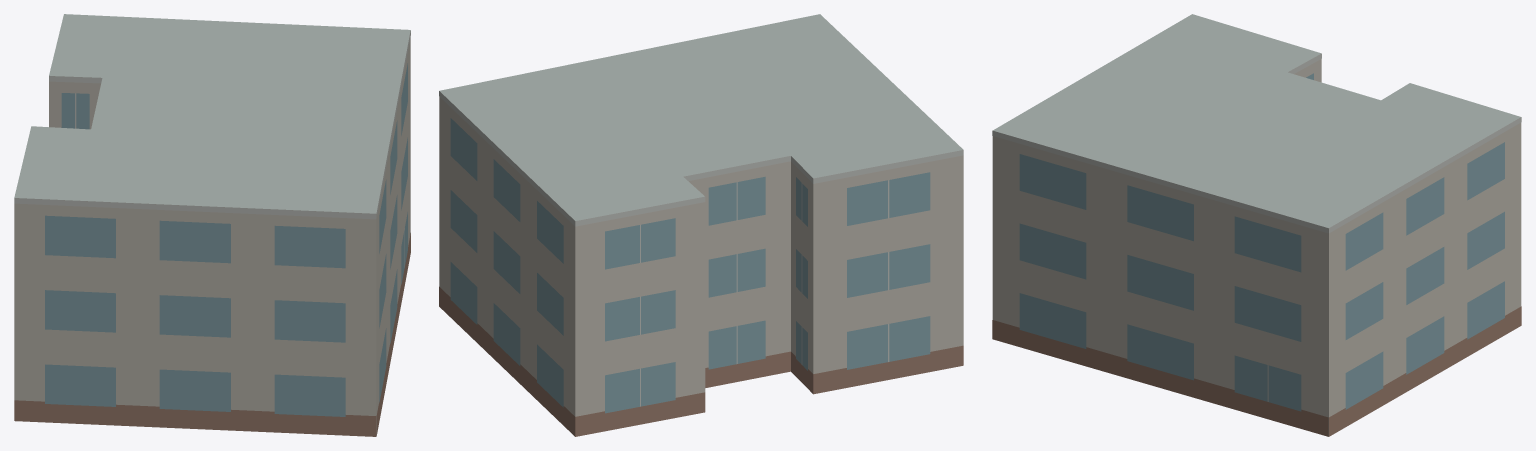
Rendered from survey-upis-32856579.glb.
The picture shows the model from 3 angles, left to right: view 1: azimuth 30°, elevation 25°; view 2: azimuth 150°, elevation 25°; view 3: azimuth 270°, elevation 25°; orthographic projection. The views are drawn at different scales.
Parts seen in each view (by area): view 1: survey-upis-32856579.tmp; view 2: survey-upis-32856579.tmp; view 3: survey-upis-32856579.tmp.
Boxes of the visible parts, bbox=[...] form: survey-upis-32856579.tmp: bbox=[14, 14, 410, 436]; survey-upis-32856579.tmp: bbox=[439, 14, 963, 436]; survey-upis-32856579.tmp: bbox=[992, 14, 1521, 436].
Bounding box in the file's own units: 21.15 × 9.6 × 22.06.
